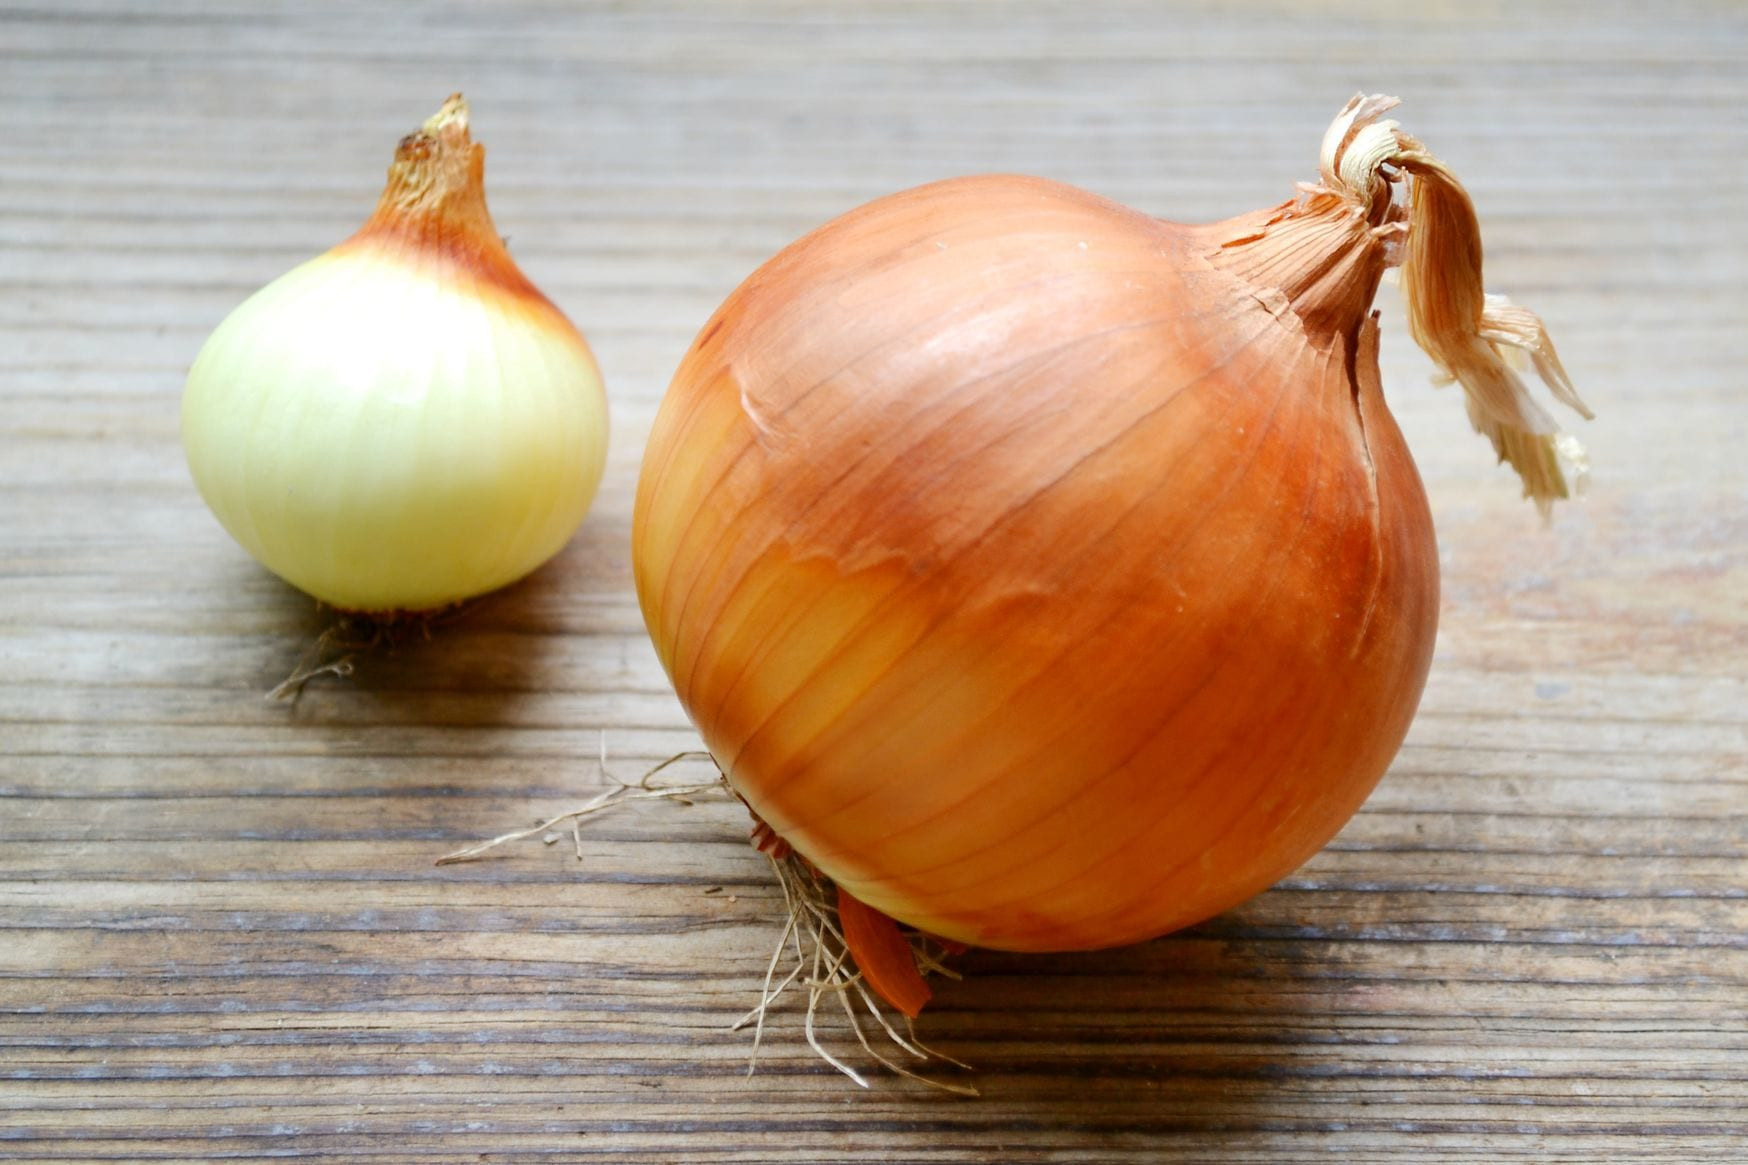onion: (619, 86, 1522, 962)
